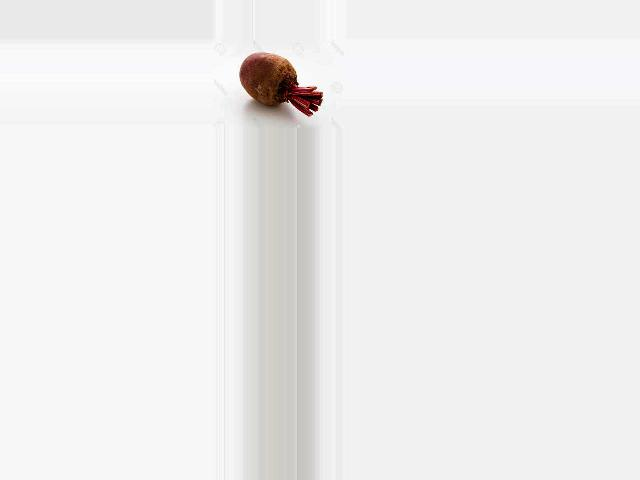beet: (238, 52, 322, 117)
